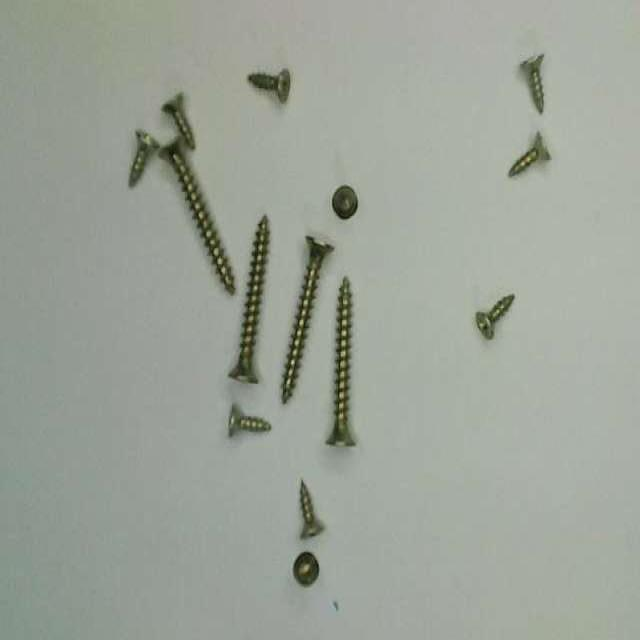Parafuso: (160, 139, 234, 293), (282, 236, 333, 403), (229, 215, 269, 383), (326, 277, 355, 445), (508, 132, 550, 176), (162, 93, 194, 148), (476, 296, 514, 339), (129, 131, 159, 185), (248, 68, 290, 101), (229, 404, 270, 436), (300, 480, 323, 536), (521, 55, 543, 112), (293, 552, 318, 585), (332, 185, 357, 217)
